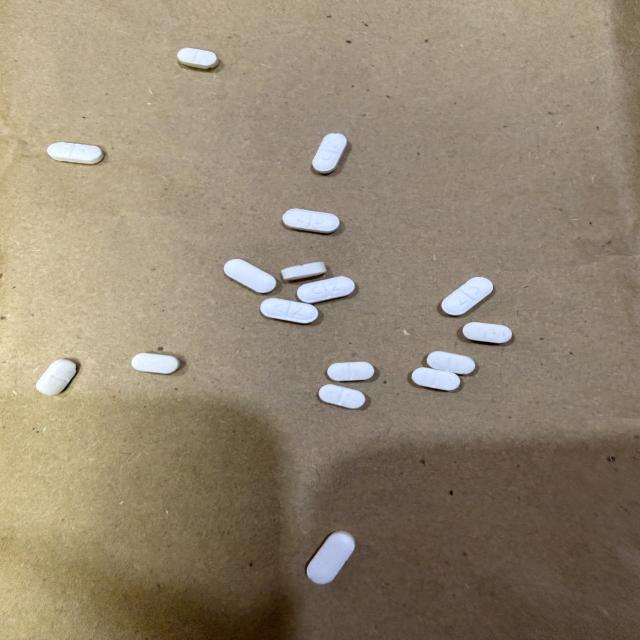pill: (307, 531, 355, 584), (442, 277, 493, 315), (224, 259, 276, 293), (261, 298, 318, 324), (297, 277, 354, 303), (36, 360, 76, 395), (283, 209, 339, 233), (313, 134, 347, 173), (47, 142, 103, 164), (319, 384, 365, 409), (412, 368, 460, 391), (427, 351, 475, 374), (132, 353, 180, 374), (463, 323, 512, 343), (327, 362, 374, 381), (178, 48, 218, 68), (282, 262, 326, 280)
